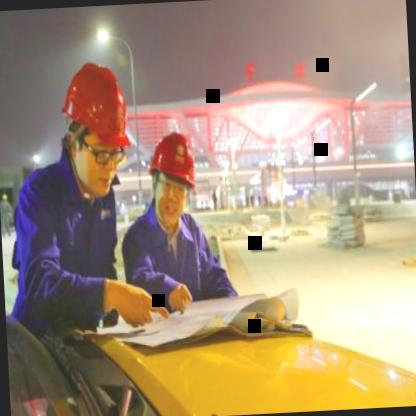helmet: (52, 50, 136, 192), (145, 126, 204, 226)
